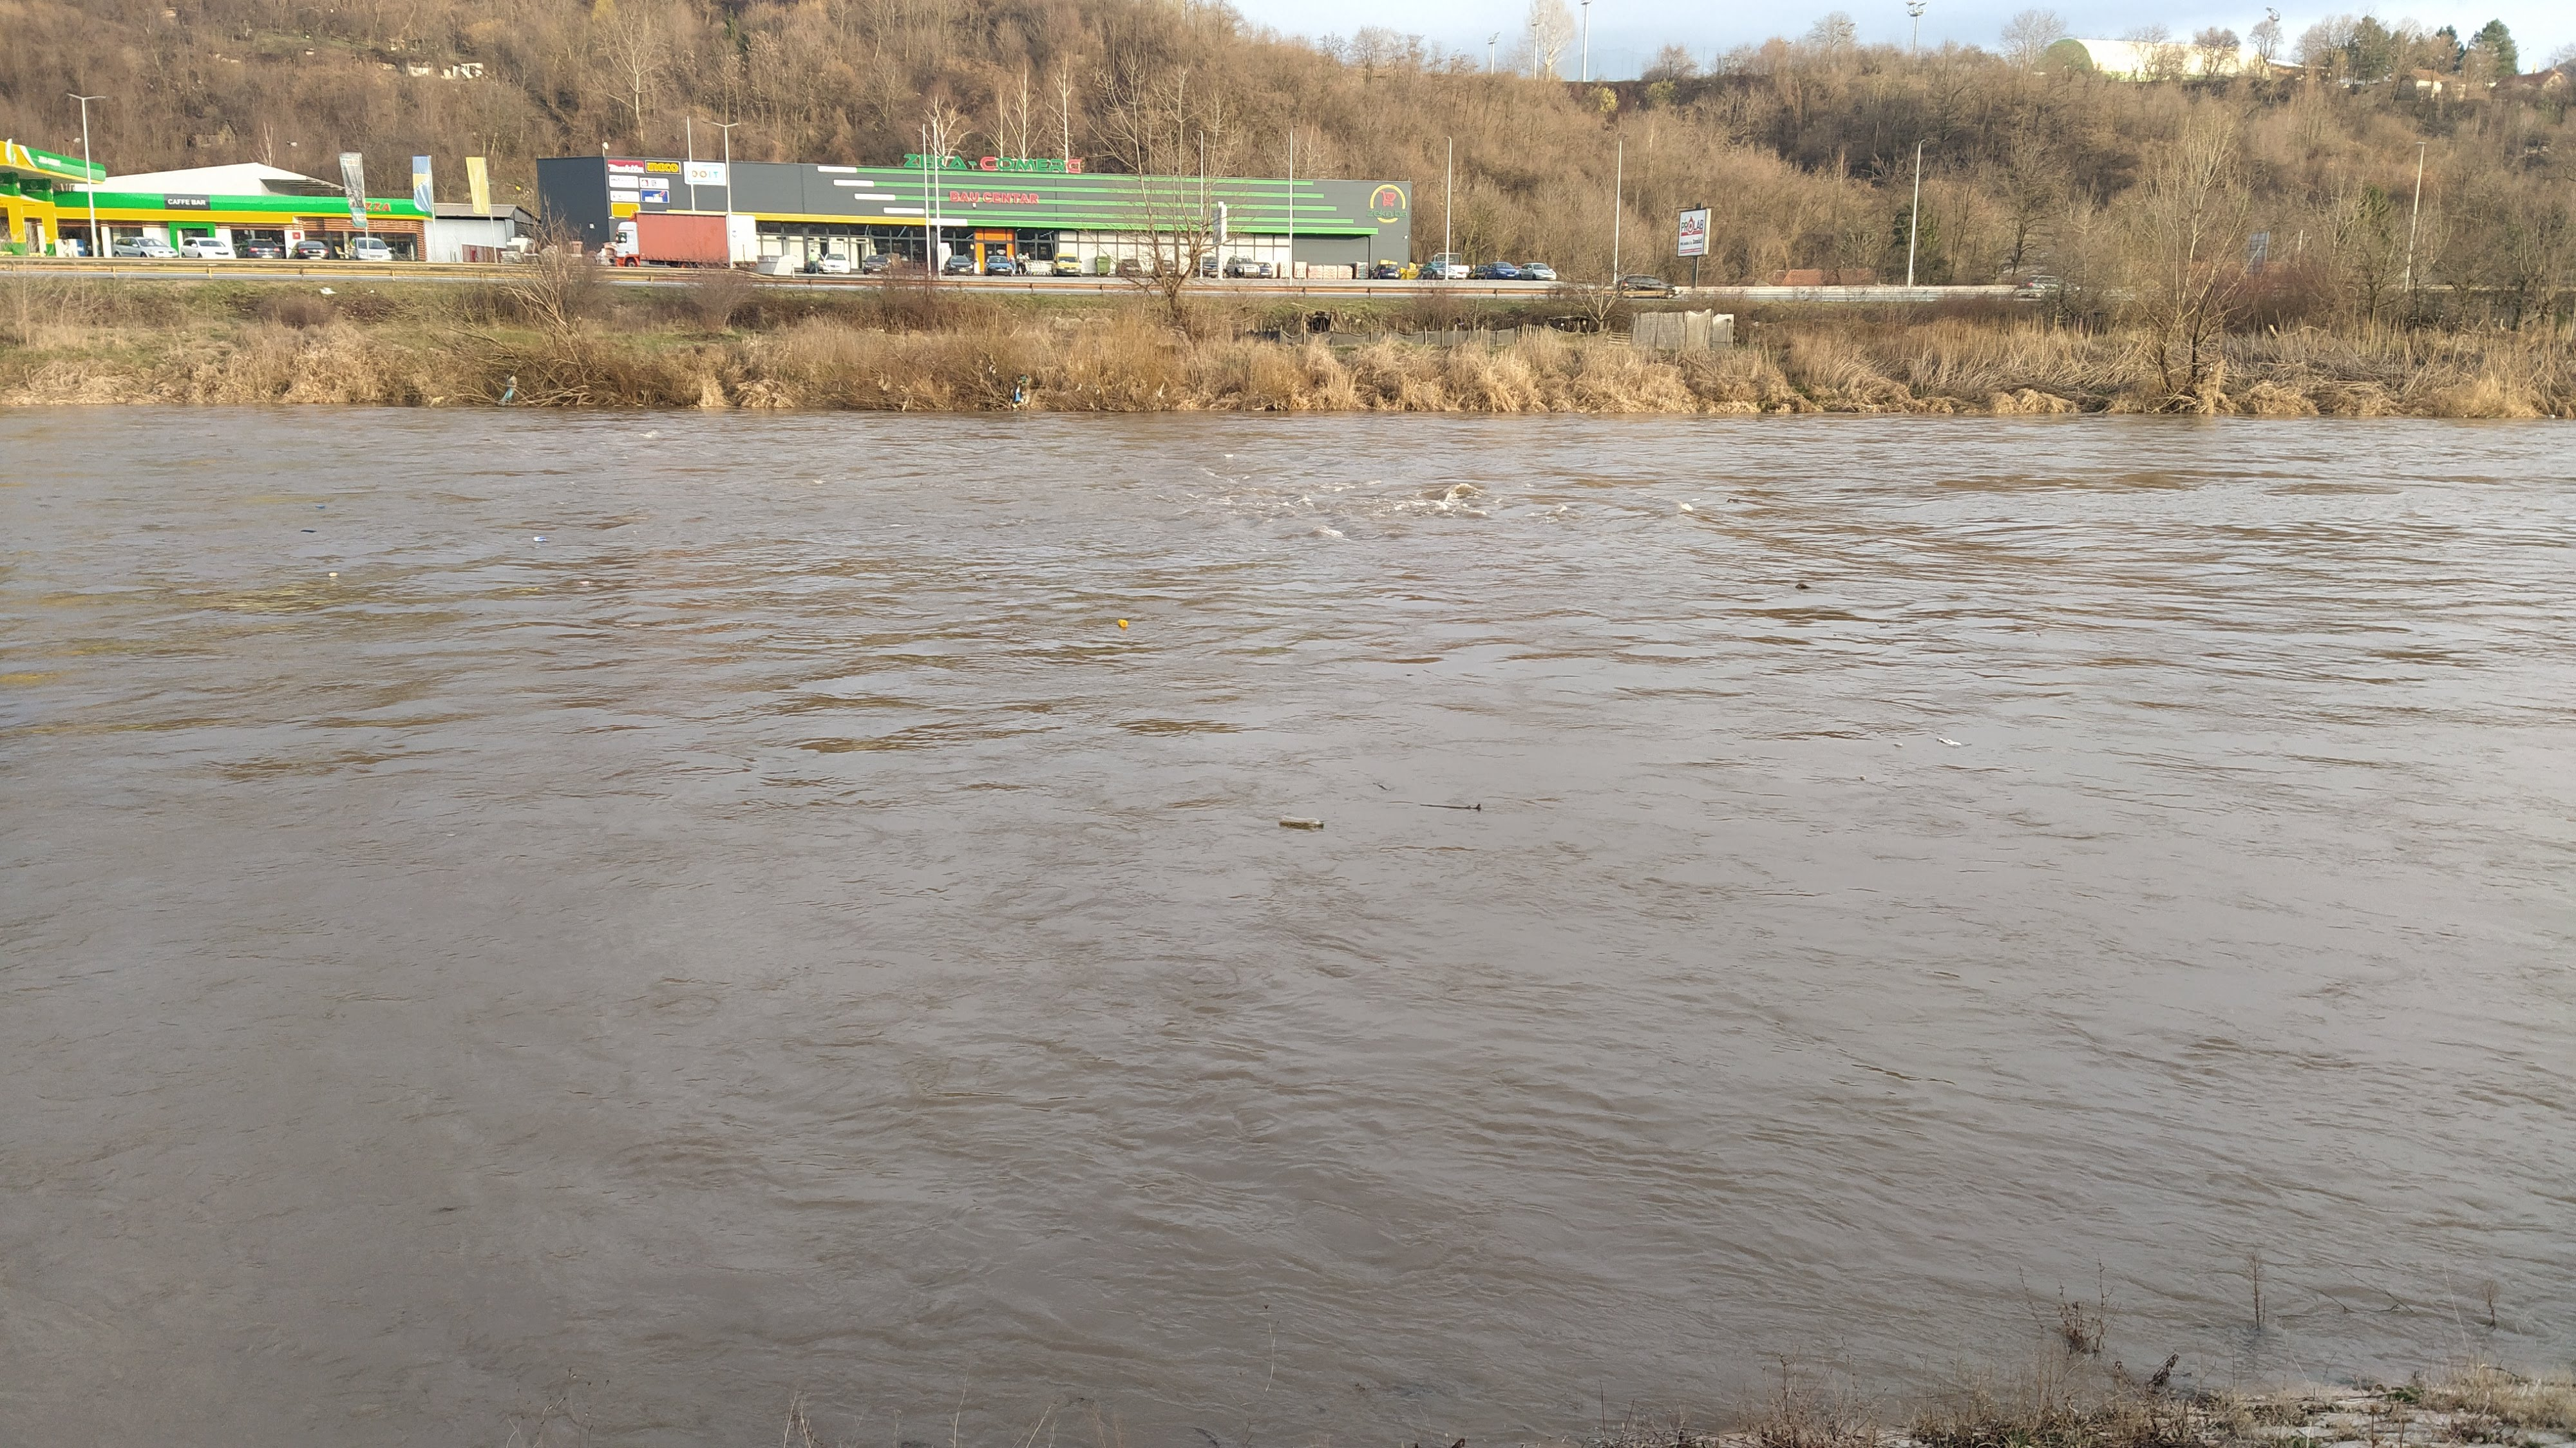Plastic Bottle: (1281, 816, 1323, 828), (1116, 620, 1129, 627), (533, 536, 547, 542), (579, 581, 591, 584), (1796, 584, 1808, 588), (329, 572, 336, 577), (1224, 453, 1233, 457), (317, 504, 324, 508)
